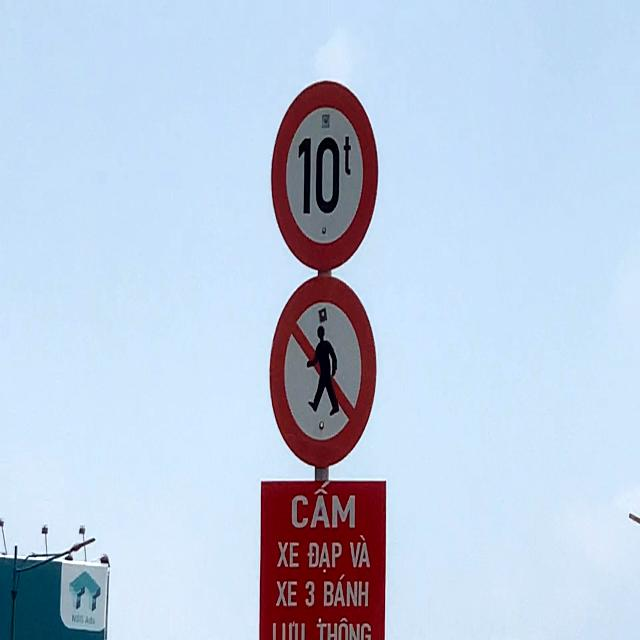P.112: (261, 267, 385, 469)
P.115: (267, 78, 383, 270)
